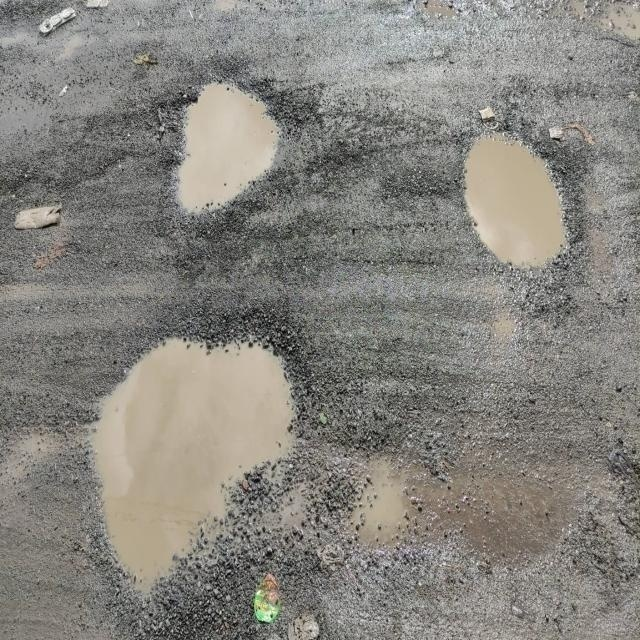pothole: (77, 274, 352, 624), (436, 90, 590, 341), (159, 52, 310, 239)
